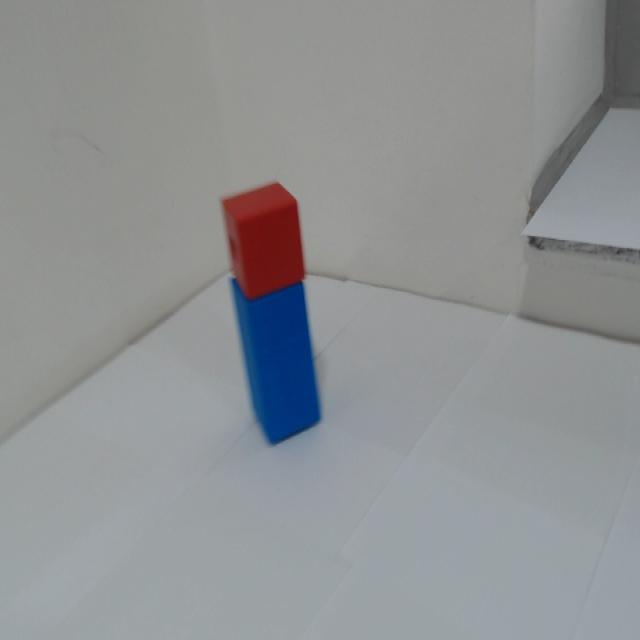cube: (212, 170, 323, 299)
